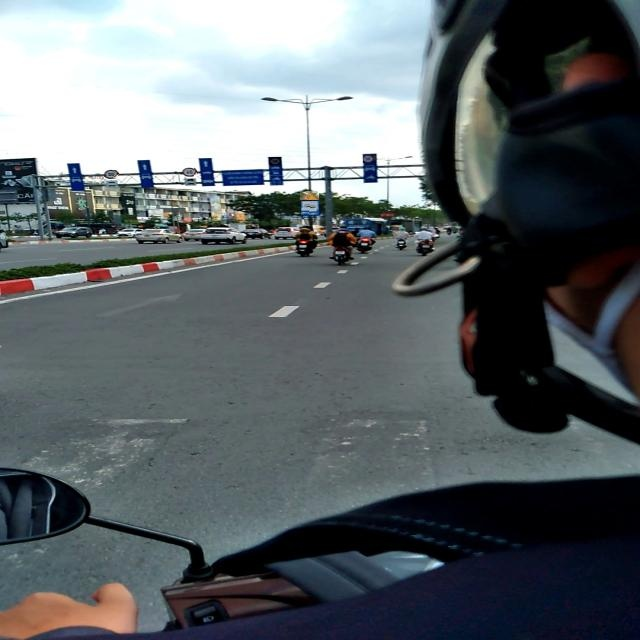bien_cam: (301, 201, 319, 215), (300, 191, 319, 200), (182, 167, 197, 177), (104, 170, 119, 179), (269, 157, 281, 165), (364, 155, 376, 163)
